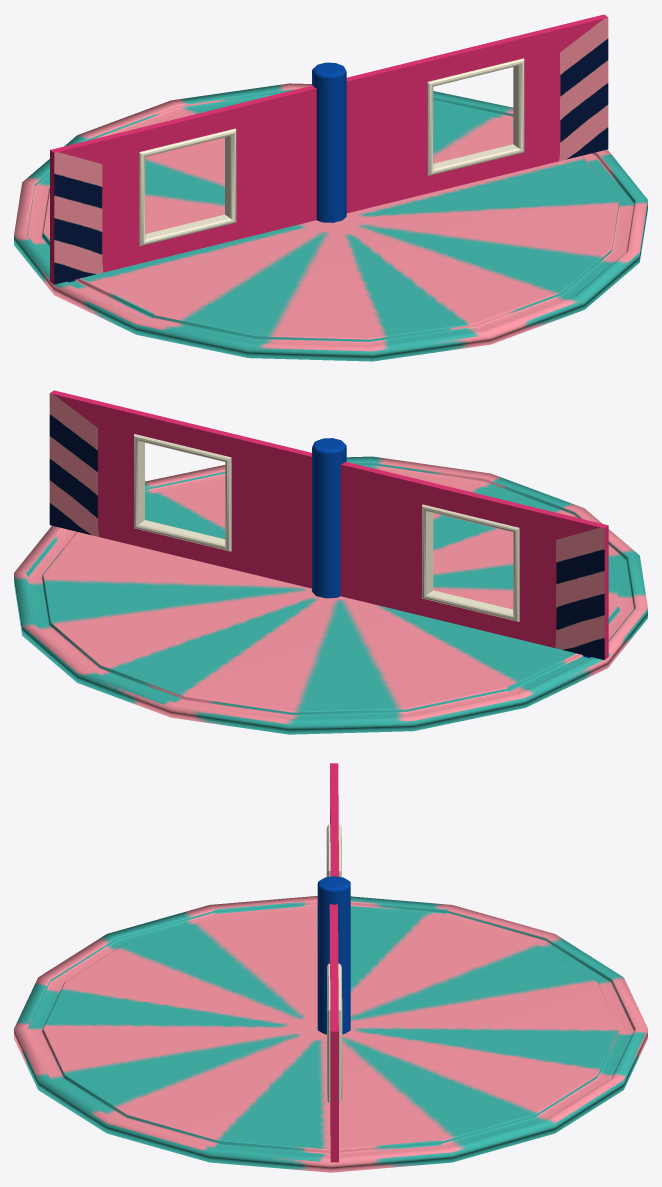
File: PLF0110050.fbx
3 renders of one model, top to bottom at view 1: azimuth 30°, elevation 25°; view 2: azimuth 150°, elevation 25°; view 3: azimuth 270°, elevation 25°, orthographic.
Parts seen in each view (by area): view 1: smPLF0110050; view 2: smPLF0110050; view 3: smPLF0110050.
Part boxes in pixels (x1,y1,x2,y2): smPLF0110050: [14, 14, 647, 361]; smPLF0110050: [14, 390, 647, 734]; smPLF0110050: [14, 763, 647, 1172].
Size of the model in its own units: 1123 by 305 by 1122.
Materials: 1 (1 with a texture image).
